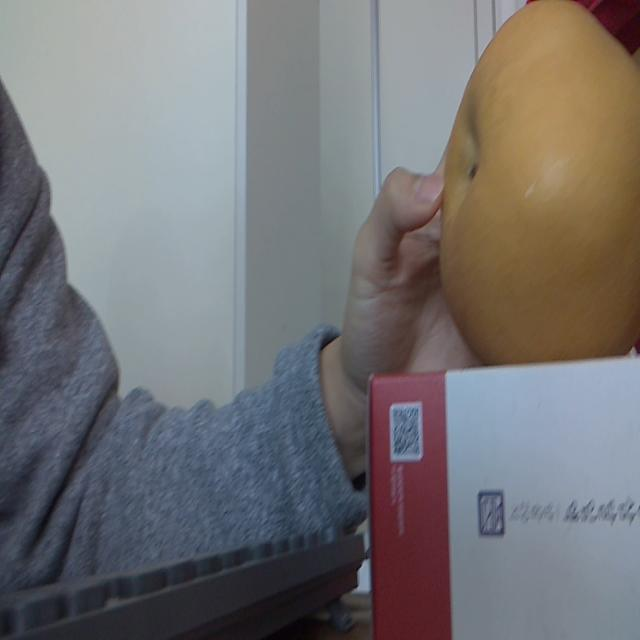pear: (441, 1, 640, 359)
